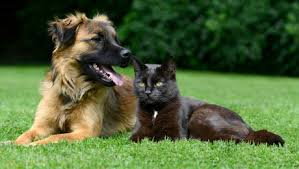cat: (129, 55, 180, 106)
dog: (44, 13, 134, 95)
